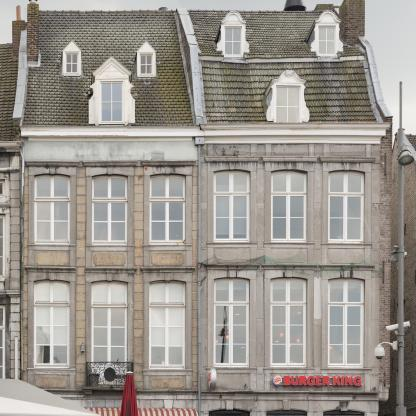Building Outline: (12, 0, 393, 416)
Cornice: (318, 264, 376, 271), (319, 156, 377, 163), (204, 263, 261, 270), (82, 267, 138, 274), (24, 160, 80, 167), (82, 160, 138, 167), (140, 160, 196, 167), (203, 156, 261, 162), (261, 156, 319, 162), (261, 264, 318, 270), (140, 267, 196, 273), (25, 266, 80, 272)
Facade: (24, 136, 390, 415)
Floor: (24, 264, 391, 400), (24, 144, 391, 264)
Floor Slab: (24, 391, 391, 400), (24, 255, 391, 264), (24, 136, 391, 144)
Ground Floor: (24, 400, 379, 416)
Roof: (22, 9, 377, 126)
Shop: (273, 376, 363, 386)
Sill: (82, 387, 139, 396), (206, 241, 258, 248), (142, 369, 193, 376), (264, 367, 315, 374), (142, 244, 192, 251), (27, 244, 76, 251), (27, 368, 76, 375), (263, 242, 315, 248), (321, 243, 372, 249), (206, 367, 257, 373), (321, 368, 372, 374), (85, 245, 135, 251)
Top Floor: (29, 11, 362, 144)
Window: (90, 280, 128, 388), (328, 277, 365, 368), (149, 280, 186, 369), (214, 277, 250, 368), (271, 277, 307, 367), (34, 279, 70, 369), (328, 169, 365, 243), (271, 169, 308, 242), (214, 169, 250, 242), (150, 173, 186, 244), (34, 173, 70, 244), (92, 174, 128, 245), (276, 85, 300, 123), (101, 82, 123, 123), (318, 25, 336, 56), (224, 27, 242, 56), (140, 53, 153, 76), (66, 52, 79, 74)
dont: (0, 378, 101, 416), (120, 371, 139, 416), (373, 340, 397, 360), (386, 321, 411, 332), (388, 245, 398, 263)
